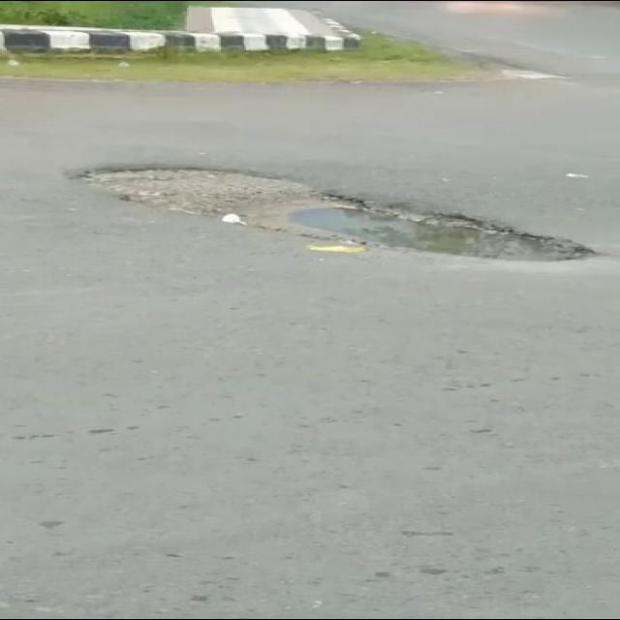lubang: (78, 167, 595, 261)
